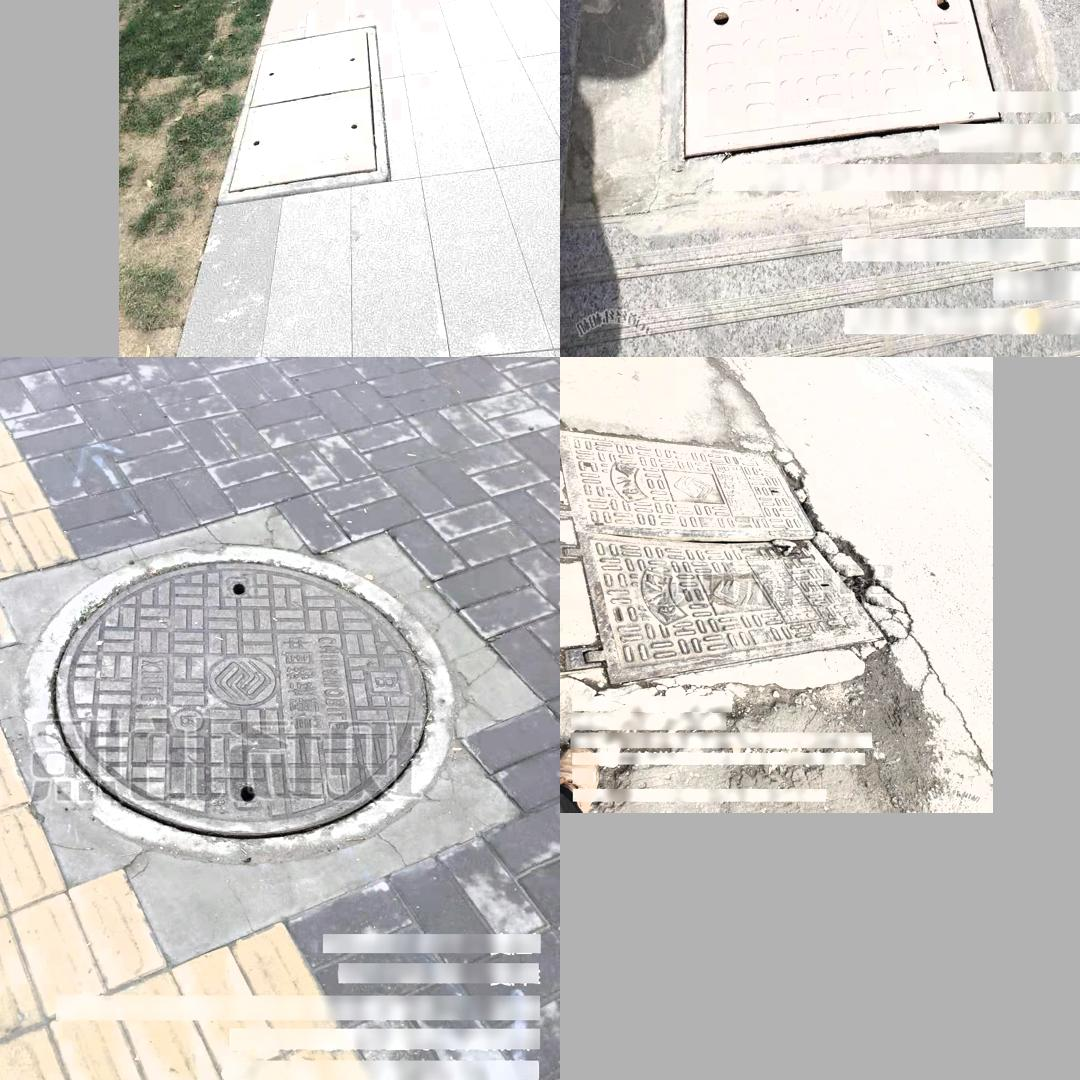good: (21, 545, 456, 864), (563, 431, 873, 659), (676, 0, 1002, 151), (213, 39, 390, 207)
